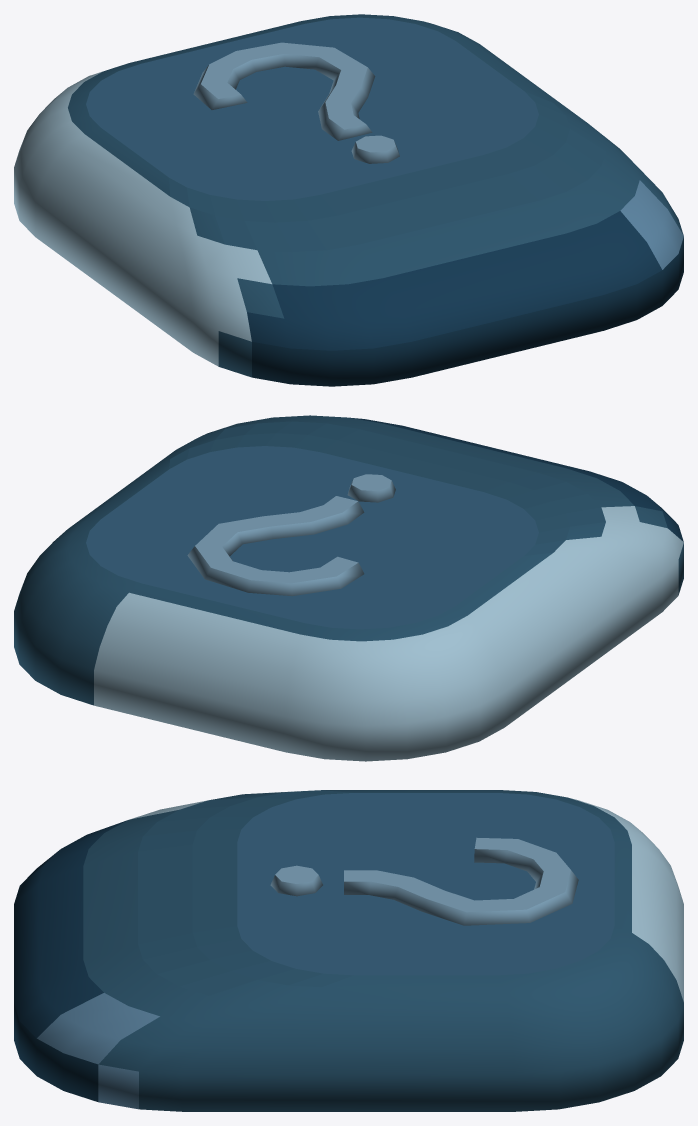
The model's file is newshm-55.glb.
3 renders of one model, top to bottom at view 1: azimuth 30°, elevation 25°; view 2: azimuth 150°, elevation 25°; view 3: azimuth 270°, elevation 25°, orthographic. The views are drawn at different scales.
Parts seen in each view (by area): view 1: newshm-55; view 2: newshm-55; view 3: newshm-55.
Part boxes in pixels (<box>): newshm-55: <box>14,14,683,386</box>; newshm-55: <box>14,415,683,761</box>; newshm-55: <box>14,790,683,1111</box>.
Bounding box in the file's own units: 1.92 × 0.435 × 2.25.
